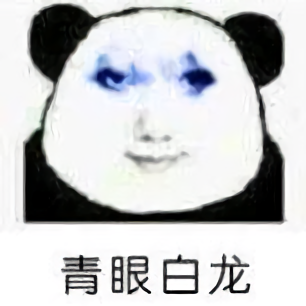dragon: (85, 53, 227, 175)
